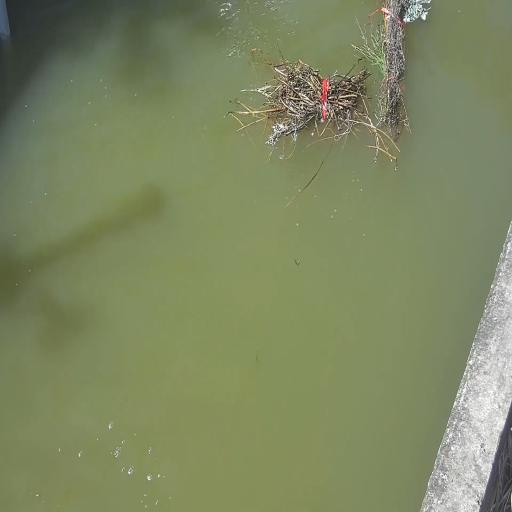twig: (262, 60, 376, 158), (371, 0, 426, 129)
